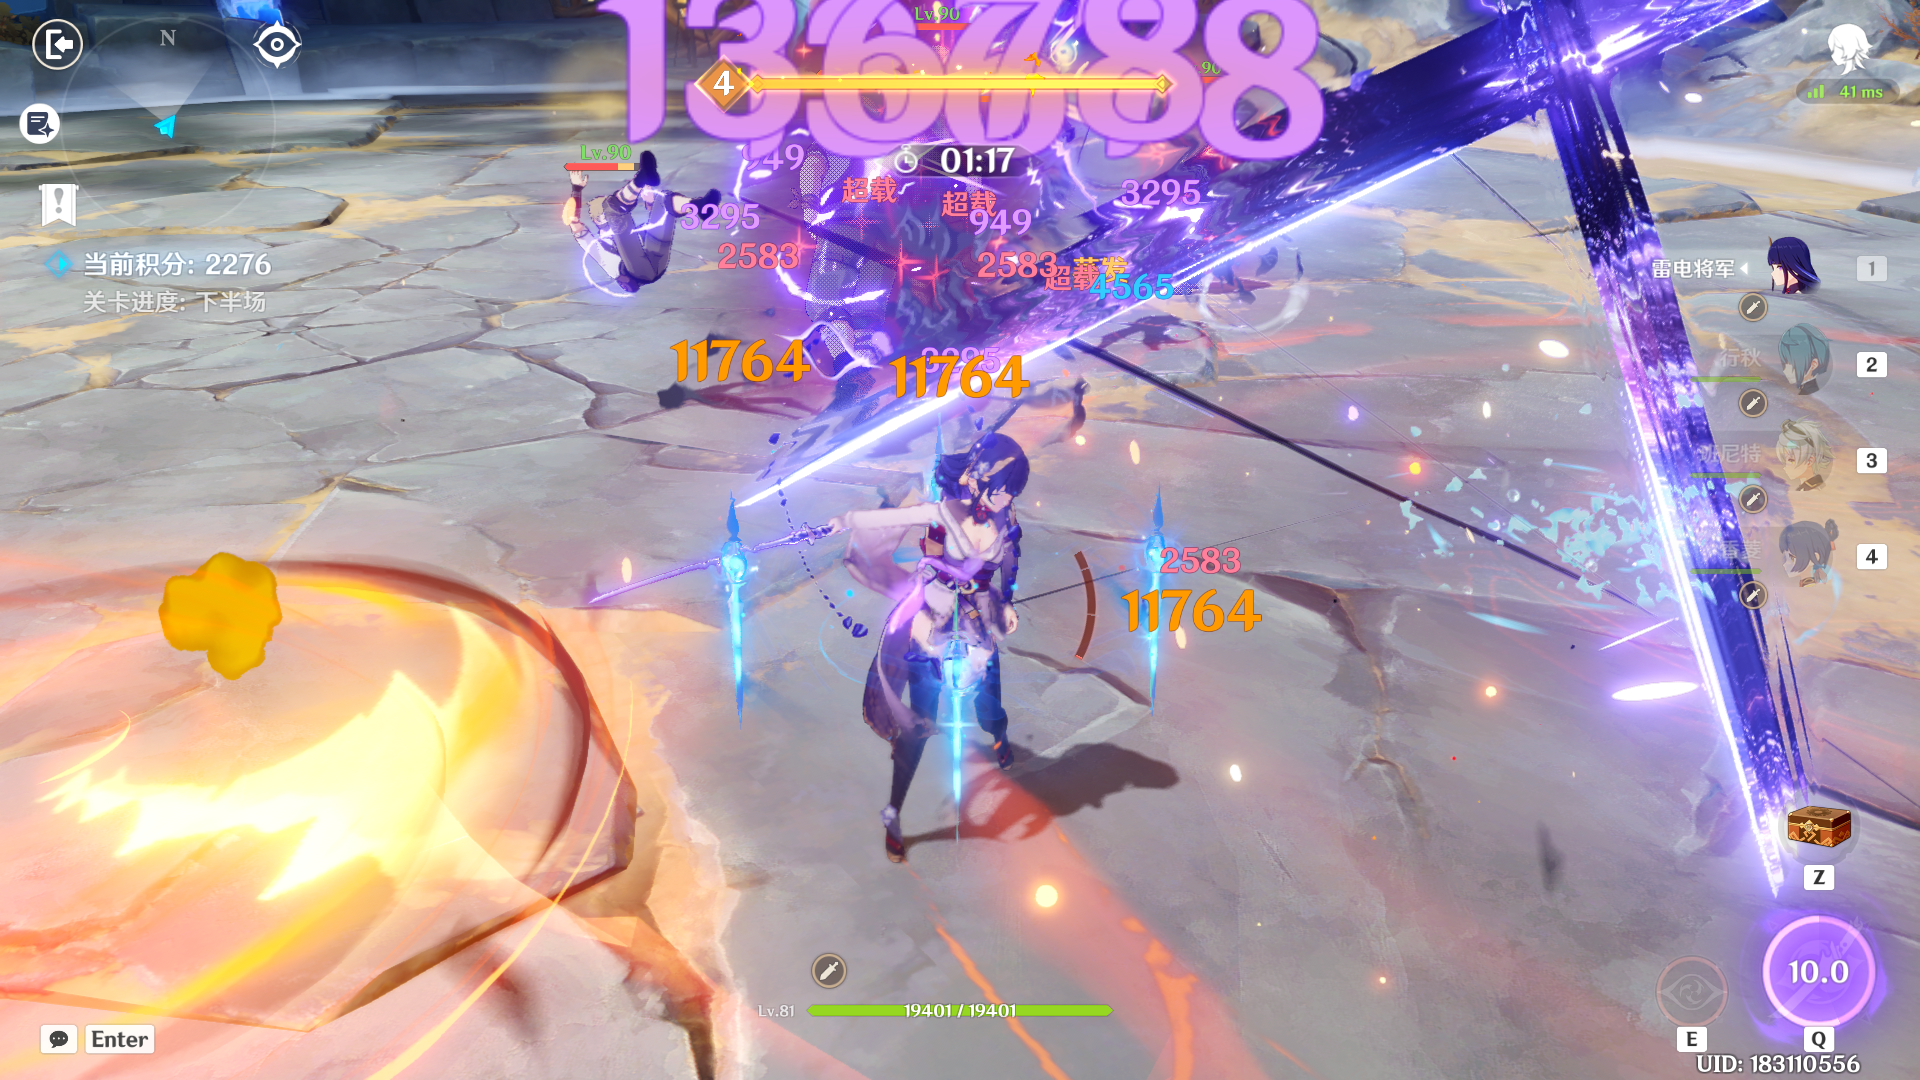character: (791, 371, 1100, 856)
